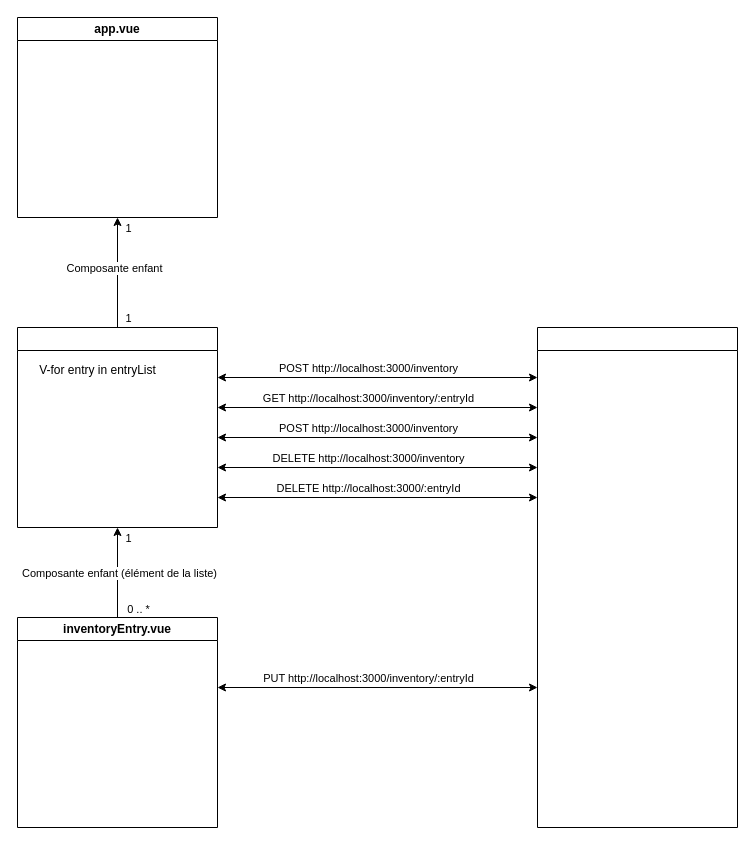
The diagram is 755 pixels wide and 845 high, and some of its shapes have lost their labels. The box of each missing label's shape, as (x1, y1, x2, y2) in pixels:
inventoryList.vue: (16, 326, 218, 528)
Serveur: (536, 326, 738, 828)
